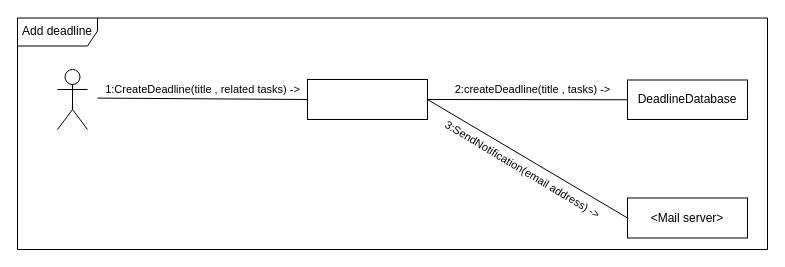
Image size: 785x267. Some labels were removed from this diagram. Each missing label, with the centre of its shape:
"Project manager Team Manager" belongs at [72,99].
"System" belongs at [367,99].
